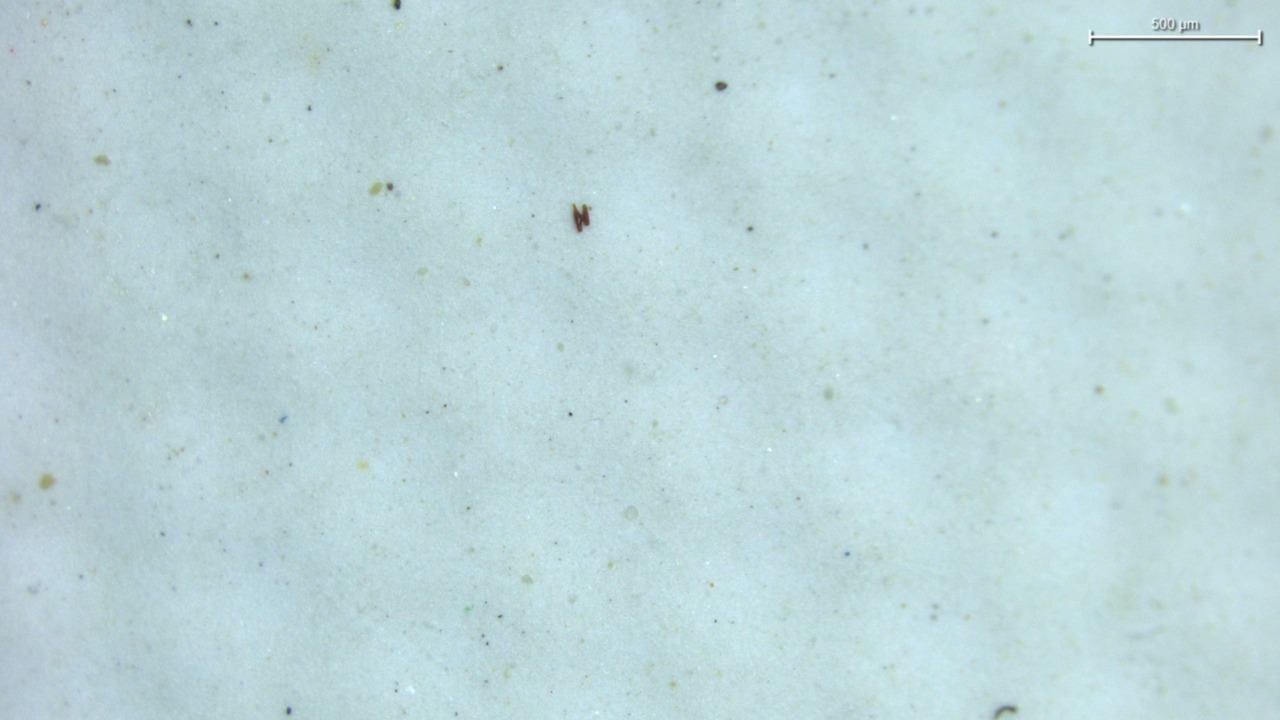microplastic_fragment: (572, 204, 590, 232)
